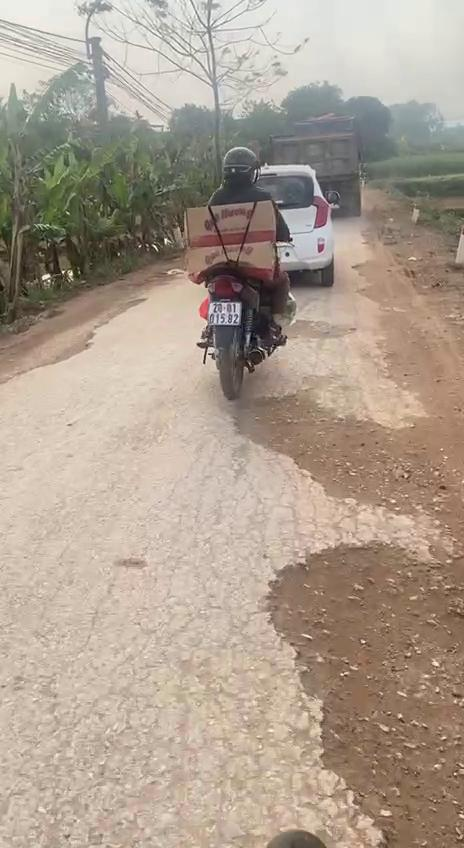pothole: (258, 531, 464, 848), (226, 392, 448, 532), (21, 327, 106, 374), (275, 312, 356, 344)
